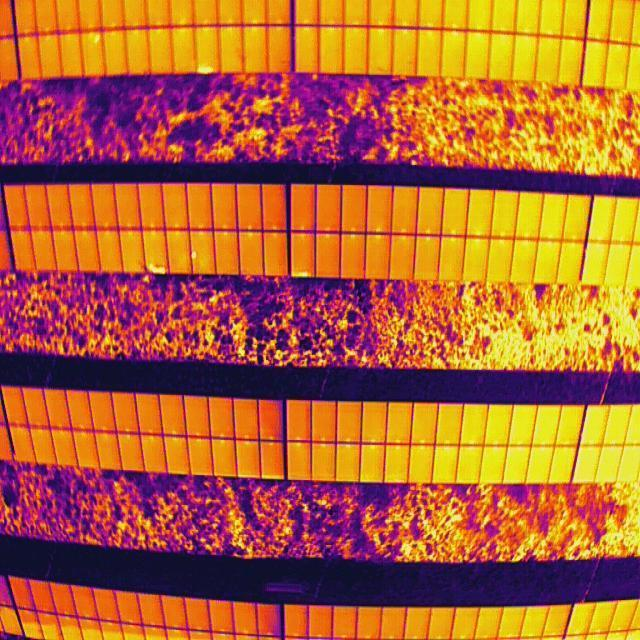hotspot: (146, 260, 168, 276), (198, 62, 212, 73), (292, 271, 312, 277), (192, 248, 198, 260)
